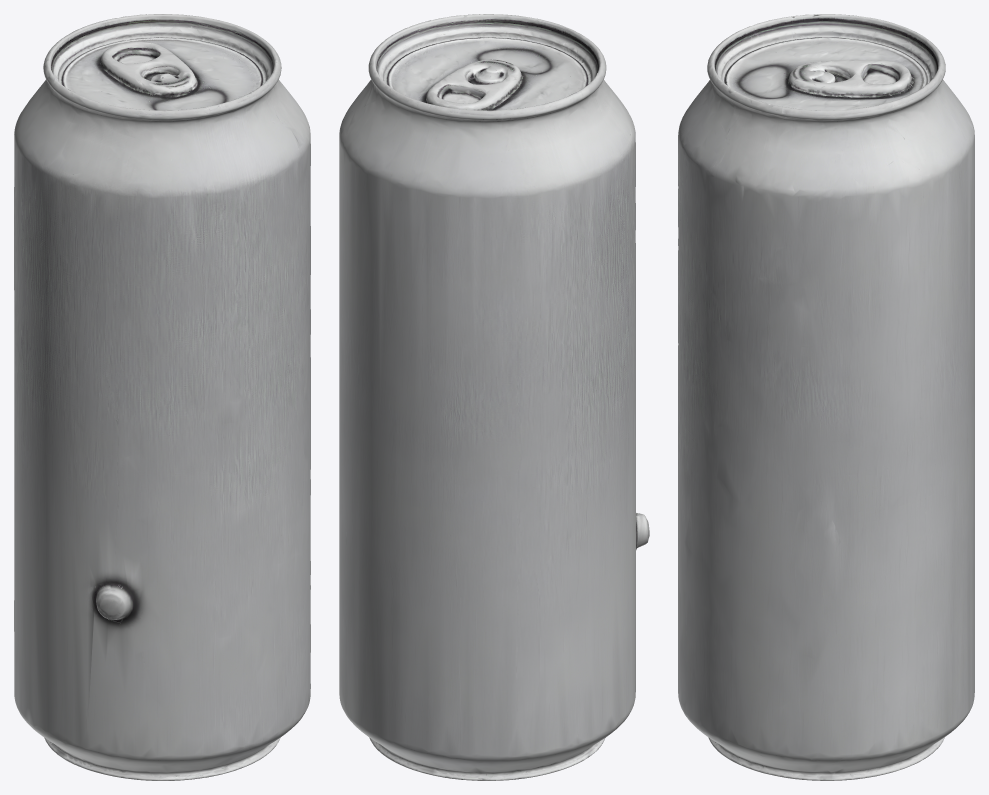
File: cup-hot-takeaway.glb
The picture shows the model from 3 angles, left to right: view 1: azimuth 30°, elevation 25°; view 2: azimuth 150°, elevation 25°; view 3: azimuth 270°, elevation 25°; orthographic projection.
Visible parts, largest first — view 1: Mesh_0; view 2: Mesh_0; view 3: Mesh_0.
Boxes of the visible parts, <box> form: Mesh_0: <box>14,14,310,780</box>; Mesh_0: <box>339,14,649,780</box>; Mesh_0: <box>678,14,974,780</box>.
Size of the model in its own units: 25207 by 62644 by 25207.
1 material, 1 textured.
